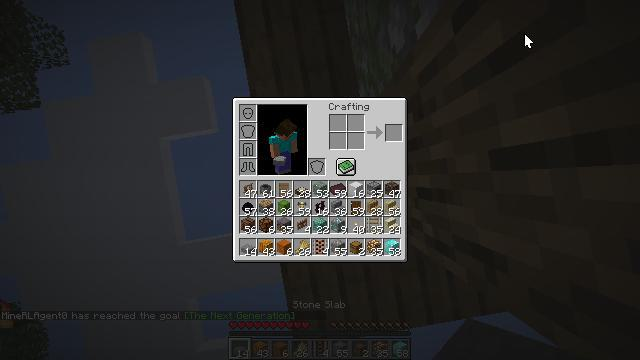cursor: (524, 33, 534, 49)
